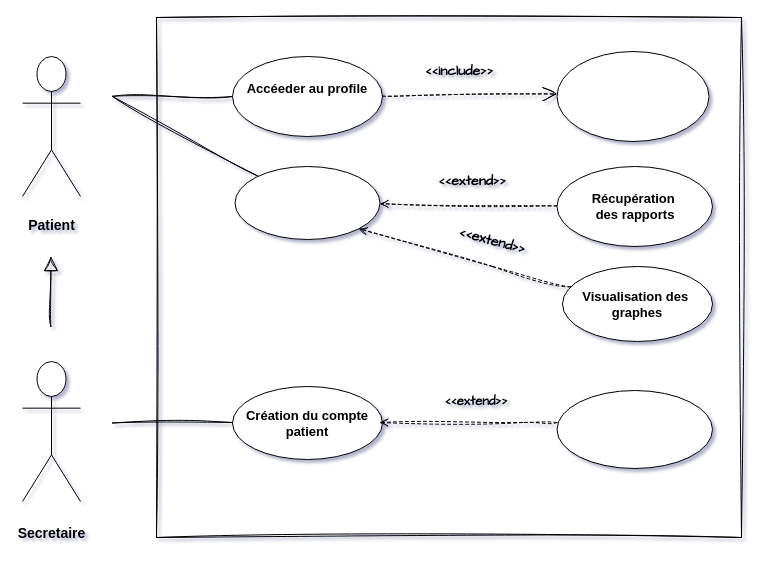
Image size: 765x566. Some labels were removed from this diagram. Here are the shapes that lost their labels. From the top down, the box of each, then its label:
(556, 50, 709, 142): Scaner code QR
(234, 166, 380, 240): Consultation des données
(556, 390, 712, 468): Gestion du compte patient
